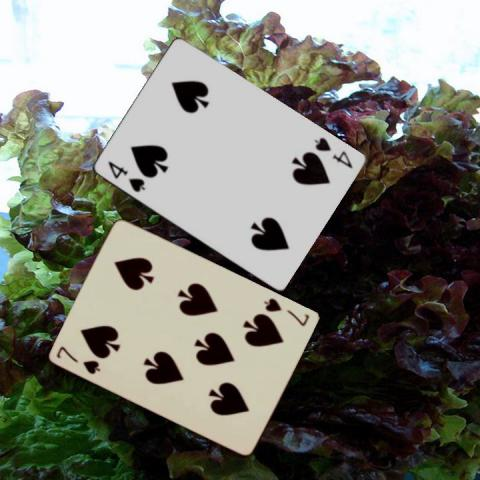4s: (311, 134, 354, 171), (104, 158, 147, 194)
7s: (261, 295, 311, 328), (54, 343, 103, 375)
